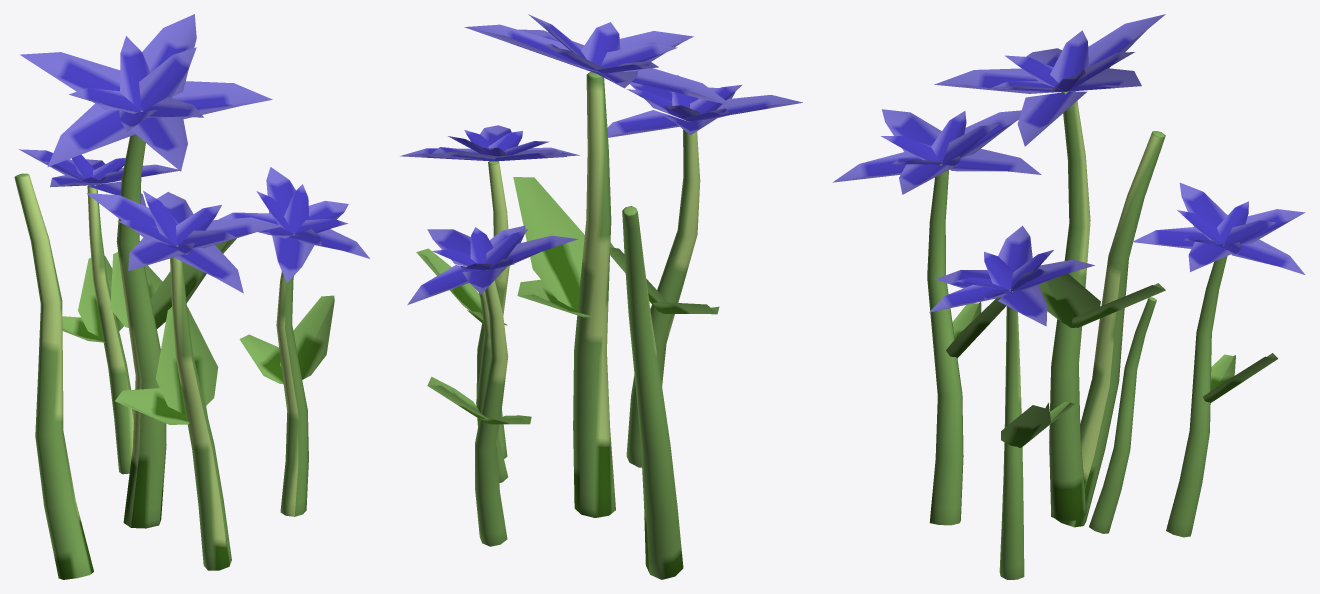
File: Flower Purple.fbx
3 views of the same model, side by side, from view 1: azimuth 30°, elevation 25°; view 2: azimuth 150°, elevation 25°; view 3: azimuth 270°, elevation 25° (orthographic). The views are drawn at different scales.
Visible parts, largest first — view 1: Flower7; view 2: Flower7; view 3: Flower7.
Boxes of the visible parts, x1=… form: Flower7: x1=14, y1=14, x2=369, y2=579; Flower7: x1=400, y1=14, x2=802, y2=579; Flower7: x1=832, y1=14, x2=1305, y2=579.
Size of the model in its own units: 15.45 by 24.05 by 20.05.
1 material, 1 textured.
